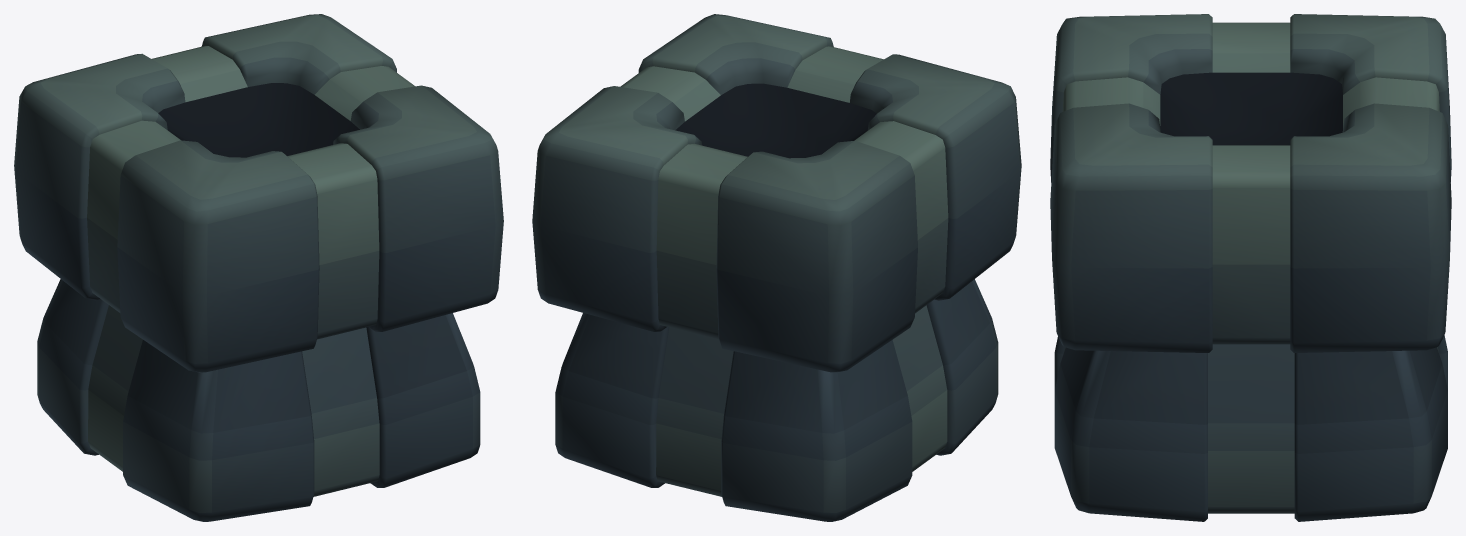
The model's file is GlueplantStand.fbx.
3 views of the same model, side by side, from view 1: azimuth 30°, elevation 25°; view 2: azimuth 150°, elevation 25°; view 3: azimuth 270°, elevation 25° (orthographic). The views are drawn at different scales.
Visible parts, largest first — view 1: GlueplantStand_LOD0; view 2: GlueplantStand_LOD0; view 3: GlueplantStand_LOD0.
Part boxes in pixels (left/top/right/bottom): GlueplantStand_LOD0: left=14, top=14, right=503, bottom=521; GlueplantStand_LOD0: left=532, top=14, right=1021, bottom=521; GlueplantStand_LOD0: left=1050, top=14, right=1451, bottom=521.
Size of what is drawn, in the model's own units: 1.08 by 1.07 by 1.08.
